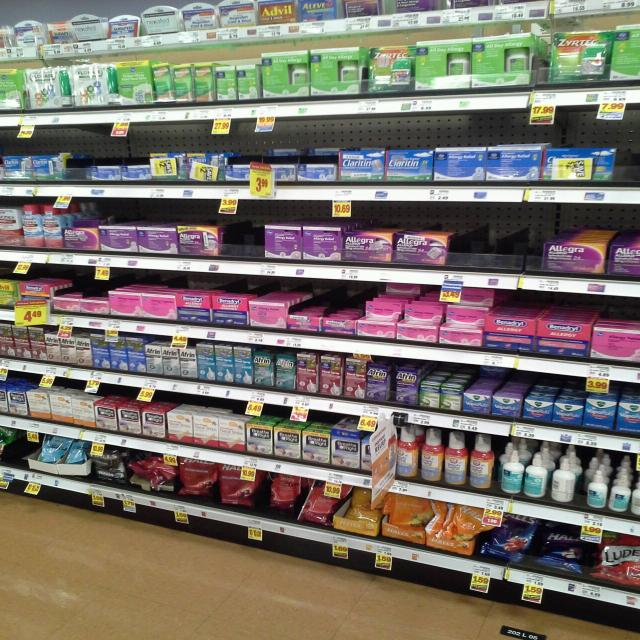empty: (451, 212, 544, 273), (217, 206, 269, 257), (612, 124, 640, 188)
